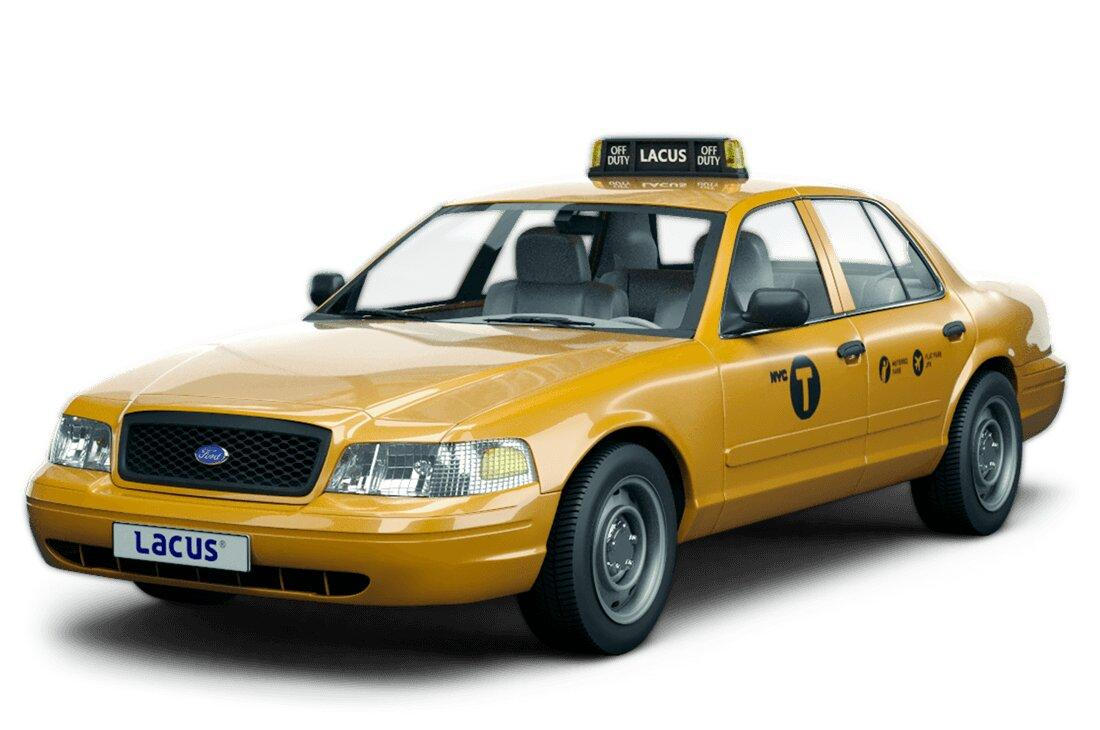taxi: (26, 78, 1100, 704)
